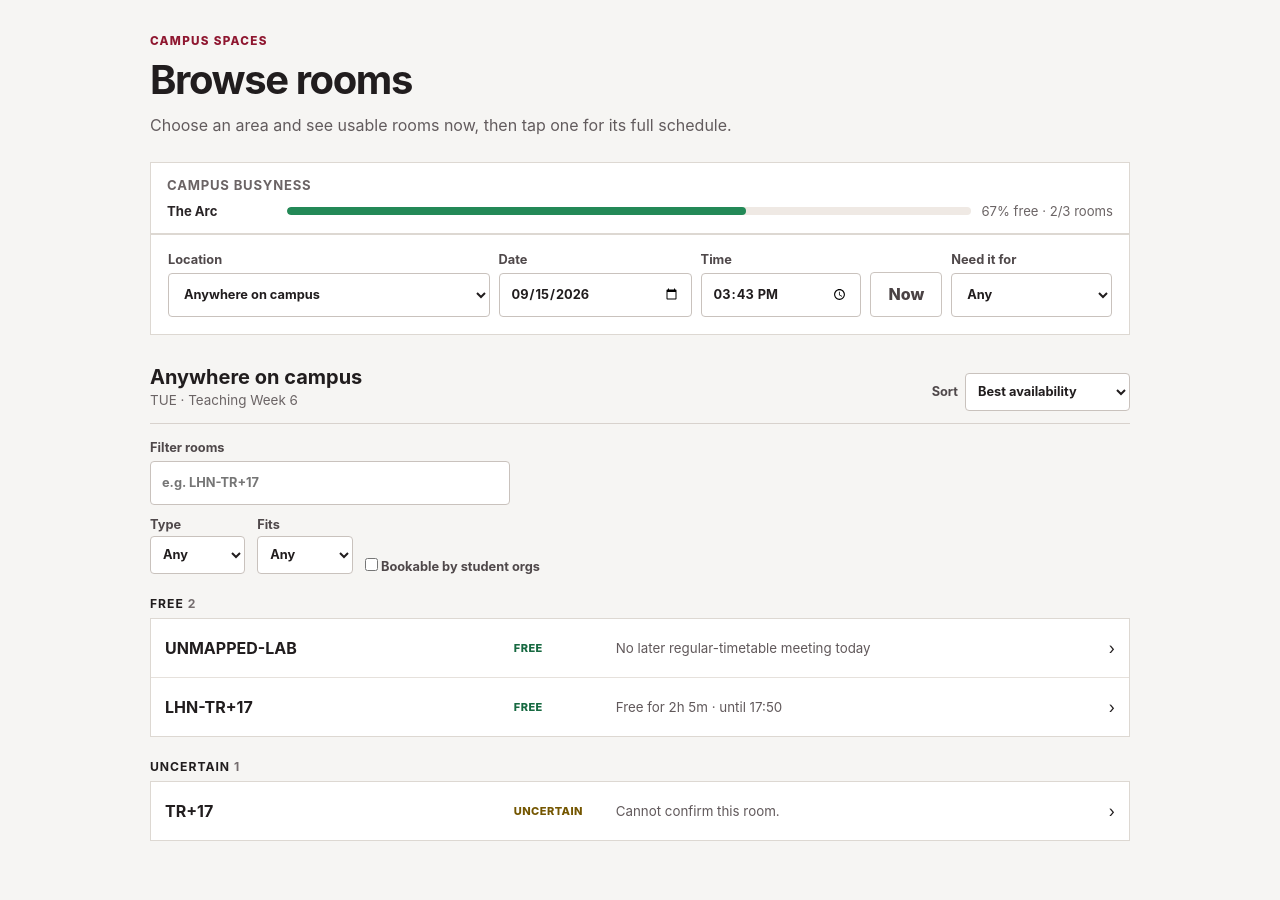
Test: Browse Rooms › filters rooms by minimum capacity
Check: the text "UNMAPPED-LAB" is shown, box [165,638,297,658]
Select "The Arc · 3 rooms" in the dropdown labelled "Location": (329, 295) [168,273,490,317]
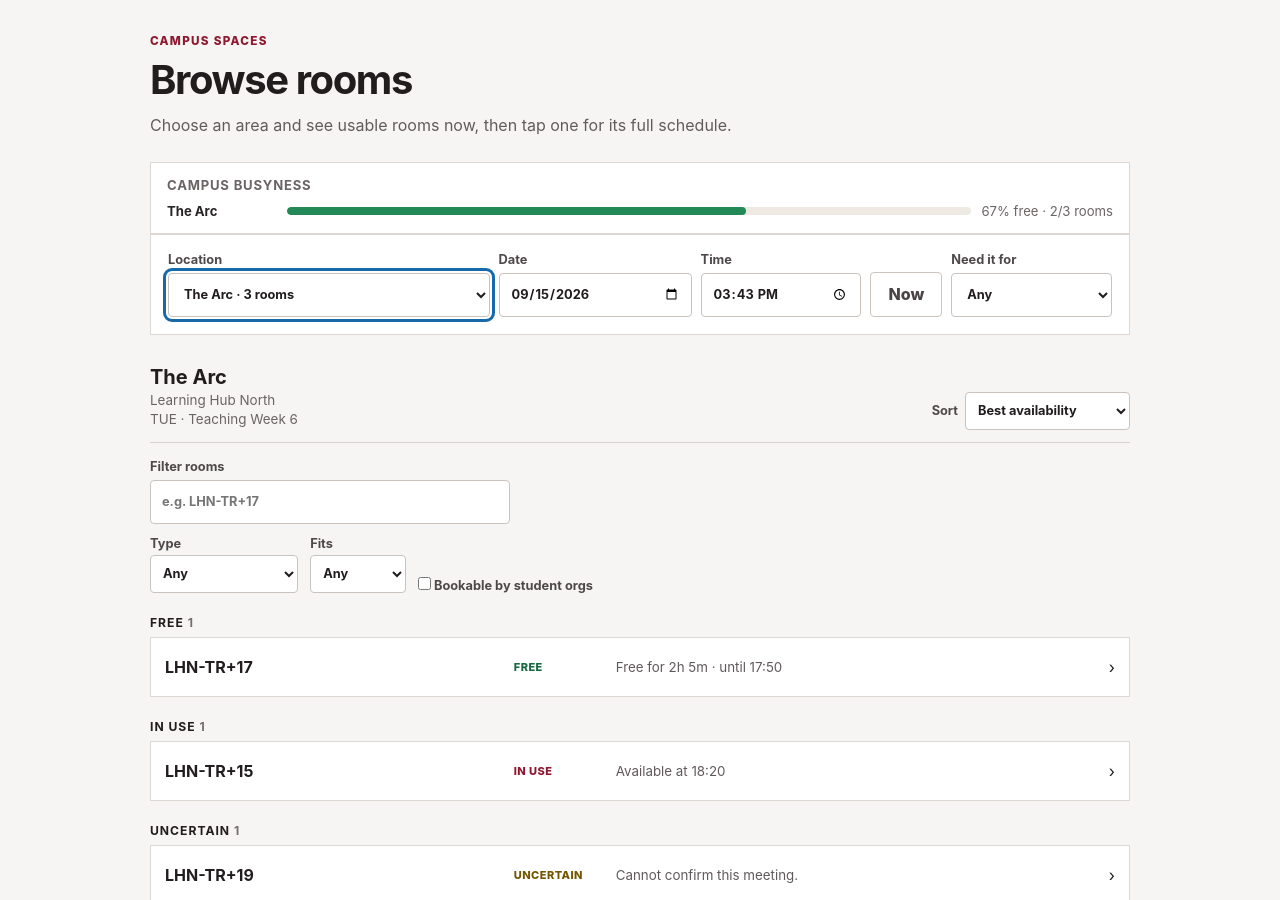
Check: the text "LHN-TR+17" is shown, box [165,657,253,677]
Select "20+" in the dropdown named "Minimum capacity": (358, 574) [310,555,406,593]
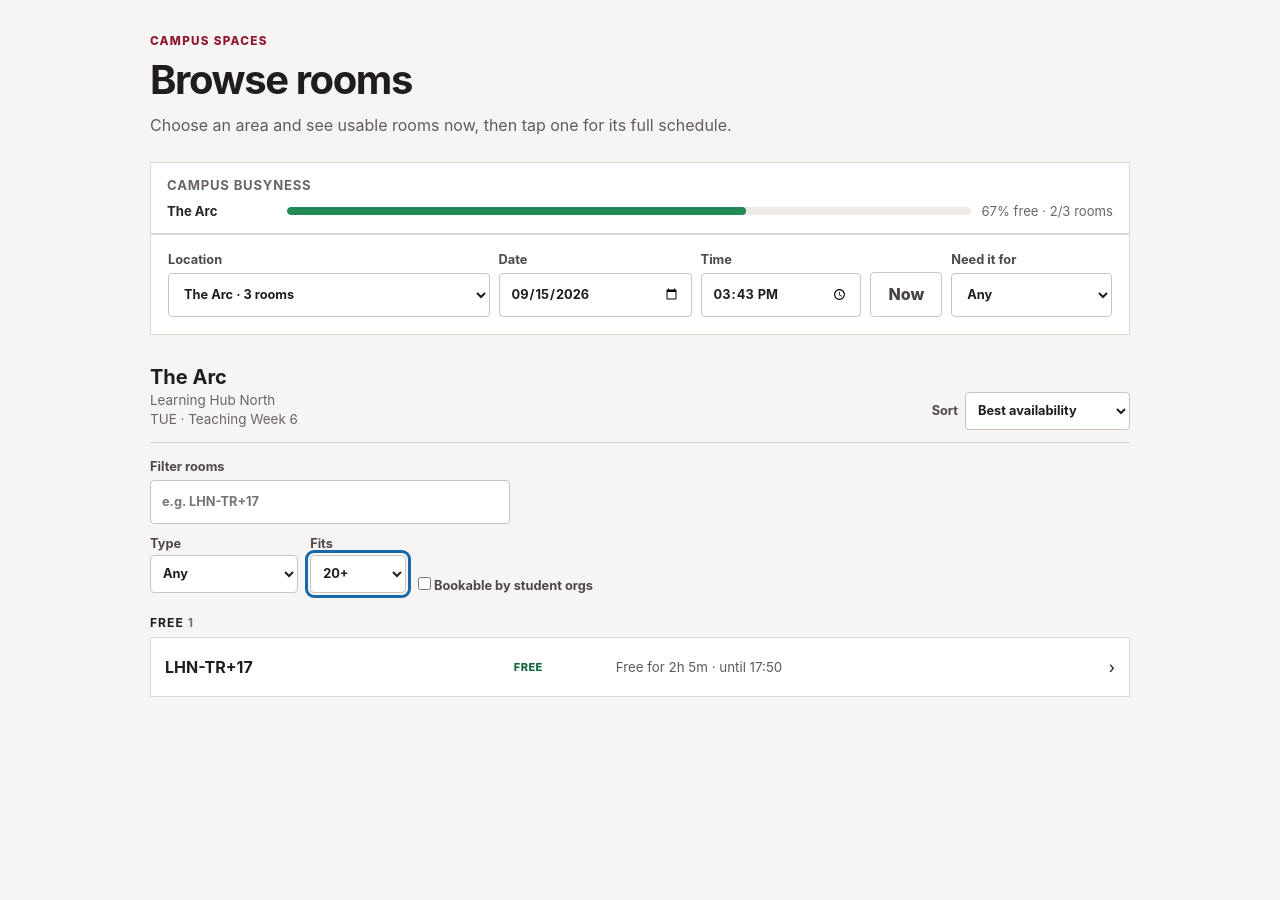
Check: the text "LHN-TR+17" is shown, box [165,657,253,677]
Check: the link "LHN-TR+15" is gone
